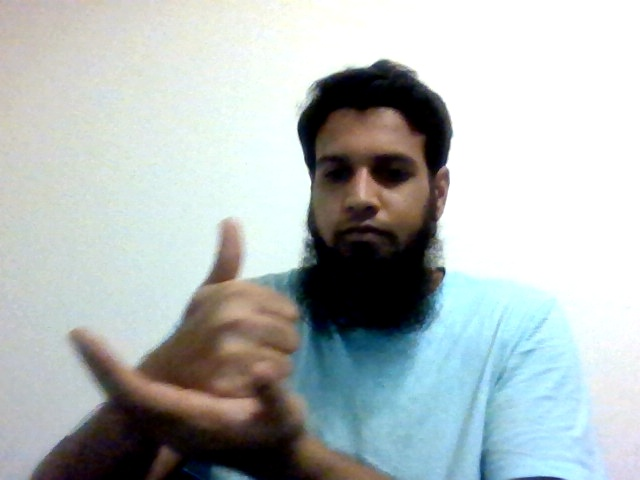help: (67, 214, 308, 478)
